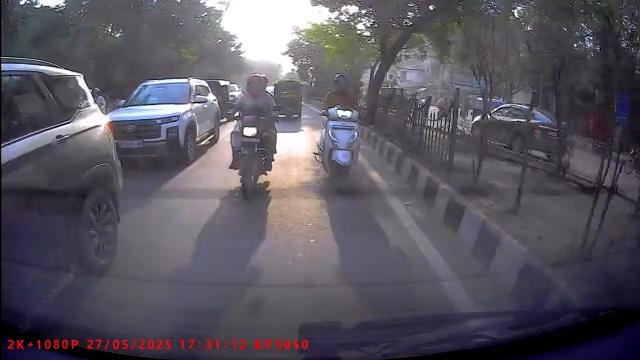motorcycle_with_helmet: (227, 71, 280, 201), (314, 72, 362, 191)
